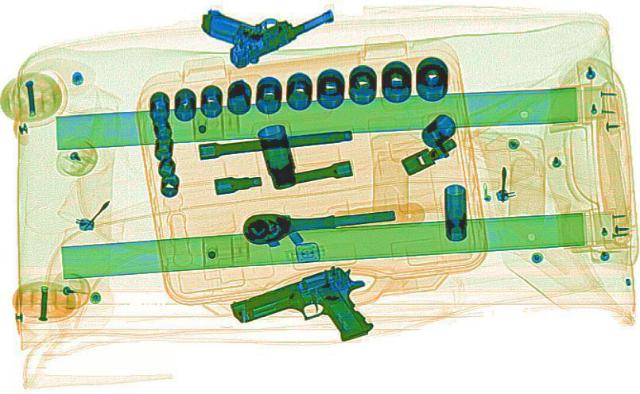Gun: (219, 261, 403, 358), (197, 0, 344, 67)
